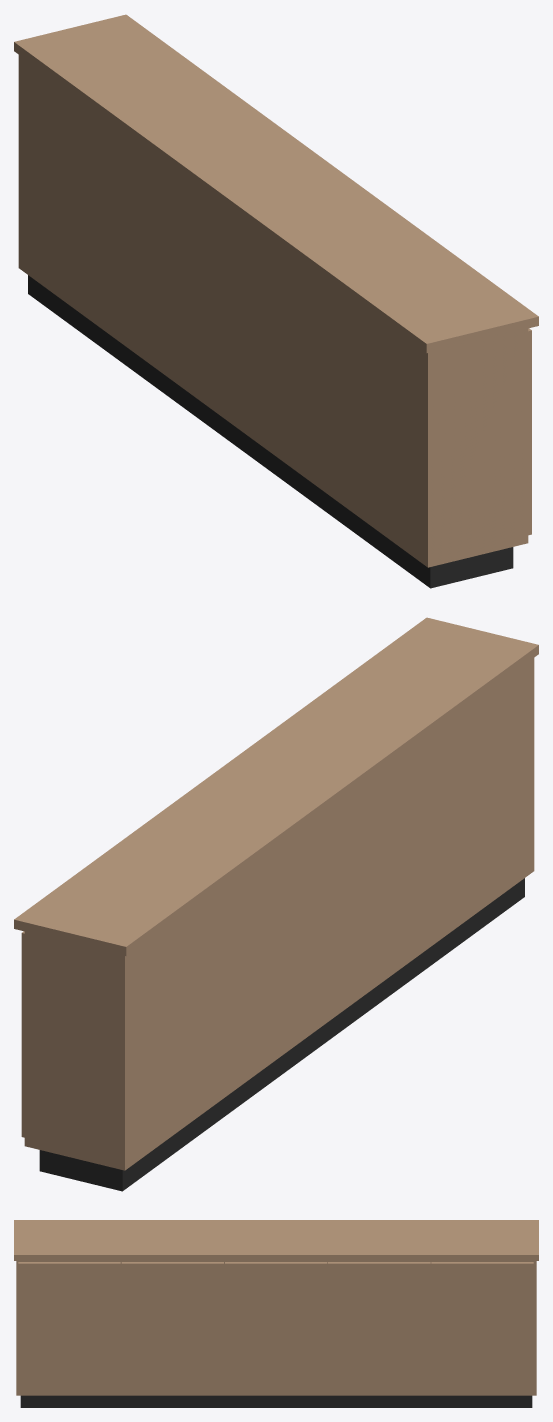
File: SM_Dresser_Bedroom.fbx
The picture shows the model from 3 angles, top to bottom: view 1: azimuth 30°, elevation 25°; view 2: azimuth 150°, elevation 25°; view 3: azimuth 270°, elevation 25°; orthographic projection. The views are drawn at different scales.
Parts seen in each view (by area): view 1: SM_Dresser_Bedroom; view 2: SM_Dresser_Bedroom; view 3: SM_Dresser_Bedroom.
Boxes of the visible parts, box(x1,y1,x2,y2) form: SM_Dresser_Bedroom: box(14, 14, 538, 588); SM_Dresser_Bedroom: box(14, 617, 538, 1191); SM_Dresser_Bedroom: box(14, 1220, 538, 1407).
Size of the model in its own units: 38 by 81 by 242.
